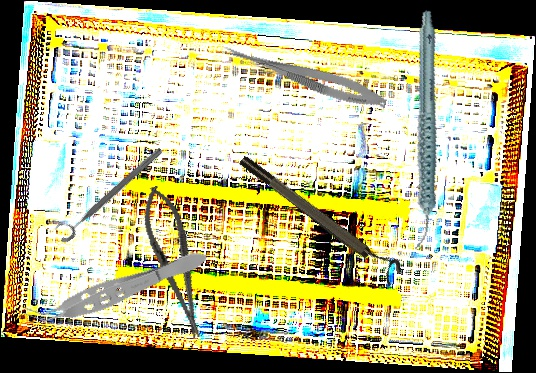Fixation Ring: (236, 146, 406, 286), (50, 139, 166, 246)
Handpiece: (365, 8, 481, 252)
Micro Scissor: (217, 40, 390, 114)
Needle Holder: (134, 181, 215, 344)
Tissue Forceps: (20, 242, 212, 336)
